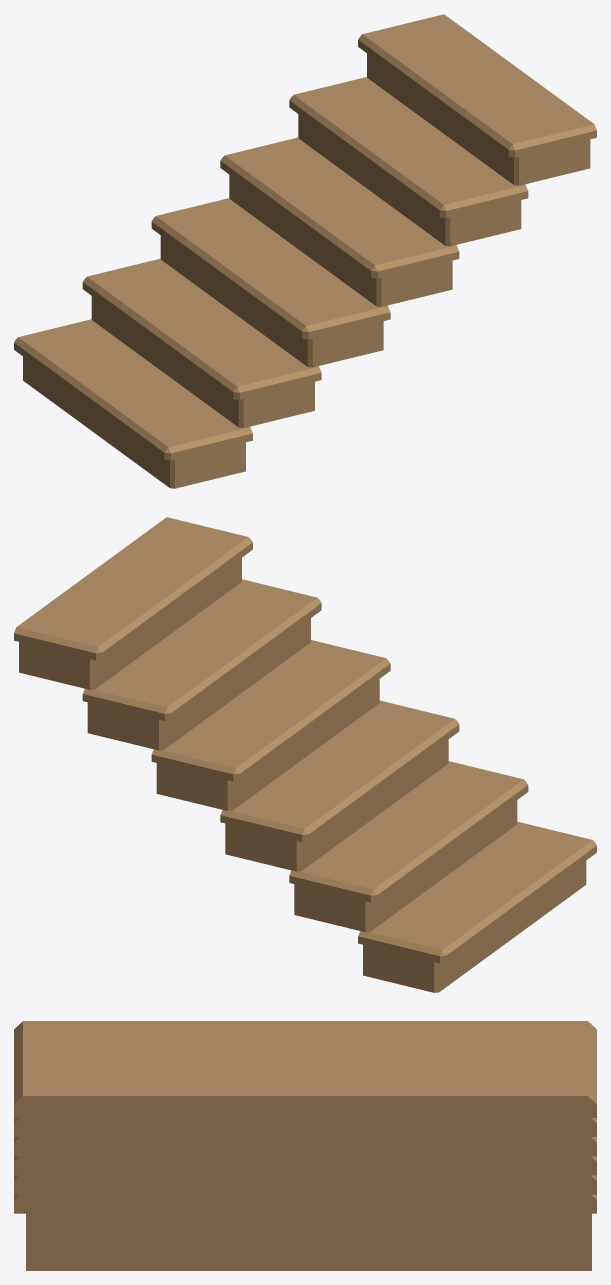
File: LowerStaircaseLP.fbx
The picture shows the model from 3 angles, top to bottom: view 1: azimuth 30°, elevation 25°; view 2: azimuth 150°, elevation 25°; view 3: azimuth 270°, elevation 25°; orthographic projection. The views are drawn at different scales.
Visible parts, largest first — view 1: LowerPartlp.001; view 2: LowerPartlp.001; view 3: LowerPartlp.001.
Boxes of the visible parts, left/top/right/bottom form: LowerPartlp.001: left=14, top=14, right=596, bottom=488; LowerPartlp.001: left=14, top=517, right=596, bottom=992; LowerPartlp.001: left=14, top=1021, right=596, bottom=1270.
Size of the model in its own units: 82.47 by 48.14 by 51.55.
